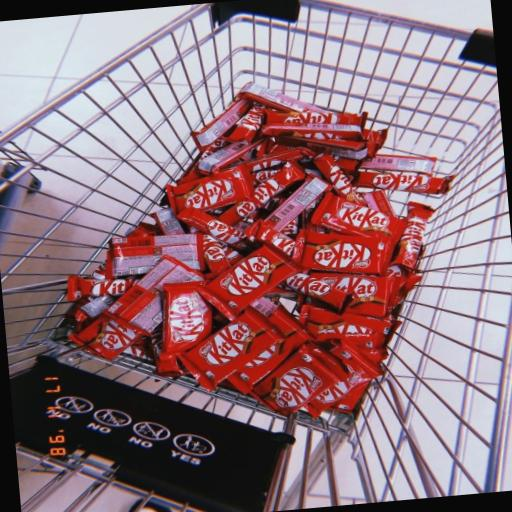kitkat: (256, 200, 446, 326)
